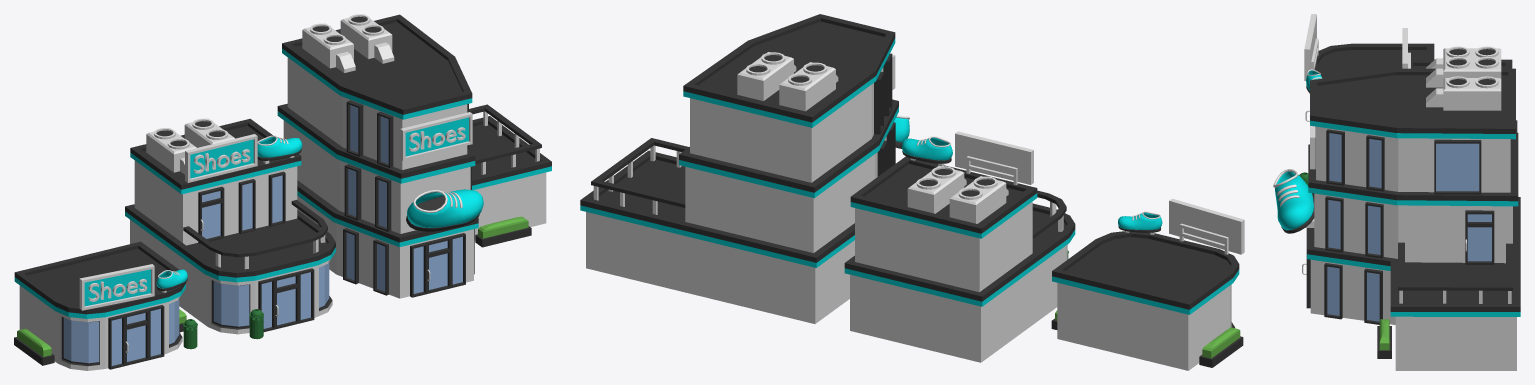
File: shoeshop.fbx
3 views of the same model, side by side, from view 1: azimuth 30°, elevation 25°; view 2: azimuth 150°, elevation 25°; view 3: azimuth 270°, elevation 25° (orthographic). The views are drawn at different scales.
Visible parts, largest first — view 1: shoe_t3, shoe-t2, shoe_t1; view 2: shoe_t3, shoe-t2, shoe_t1; view 3: shoe_t3, shoe_t1, shoe-t2.
Part boxes in pixels (bbox=[...]): shoe_t3: bbox=[277, 14, 551, 298]; shoe-t2: bbox=[125, 118, 335, 339]; shoe_t1: bbox=[14, 241, 197, 370]; shoe_t3: bbox=[580, 14, 909, 323]; shoe-t2: bbox=[844, 131, 1075, 362]; shoe_t1: bbox=[1051, 198, 1244, 370]; shoe_t3: bbox=[1273, 57, 1520, 370]; shoe_t1: bbox=[1304, 14, 1434, 128]; shoe-t2: bbox=[1299, 28, 1517, 195].
Bounding box in the file's own units: 1757 × 660 × 683.
